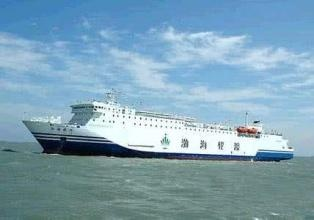youlun: (14, 93, 300, 159)
